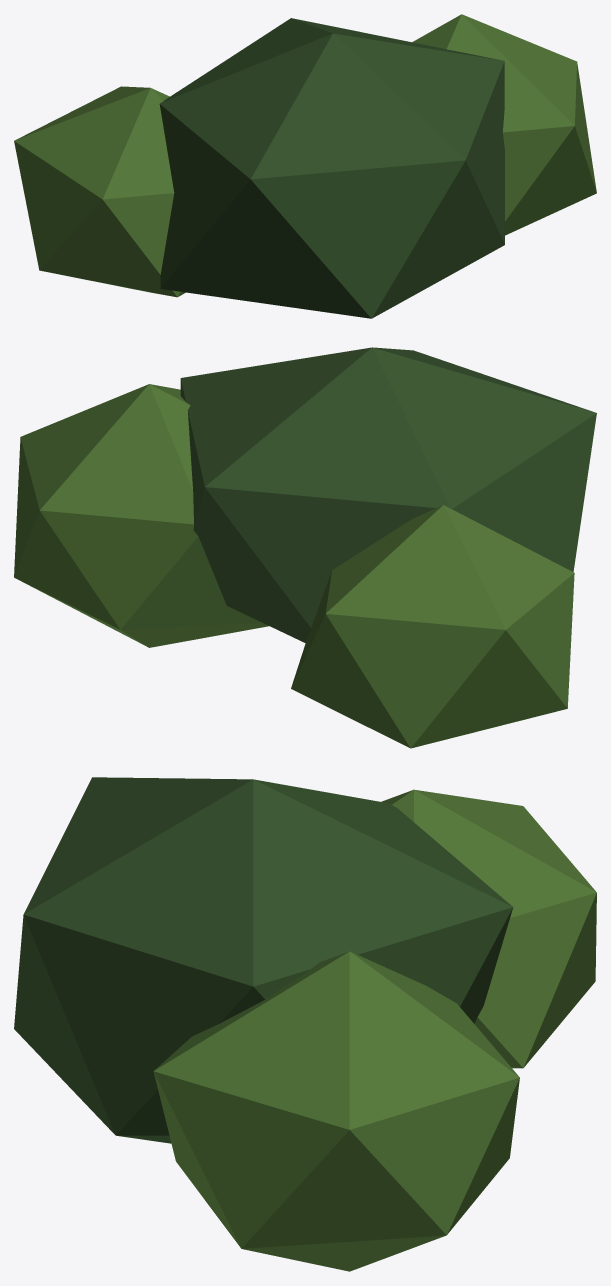
File: Scenery_Bush.fbx
3 views of the same model, one above another, from view 1: azimuth 30°, elevation 25°; view 2: azimuth 150°, elevation 25°; view 3: azimuth 270°, elevation 25° (orthographic). The views are drawn at different scales.
Visible parts, largest first — view 1: Scenery_Bush; view 2: Scenery_Bush; view 3: Scenery_Bush.
Part boxes in pixels (left/top/right/bottom): Scenery_Bush: left=14, top=14, right=596, bottom=318; Scenery_Bush: left=14, top=347, right=596, bottom=748; Scenery_Bush: left=14, top=777, right=596, bottom=1271.
Bounding box in the file's own units: 2.51 × 1.32 × 1.82.
